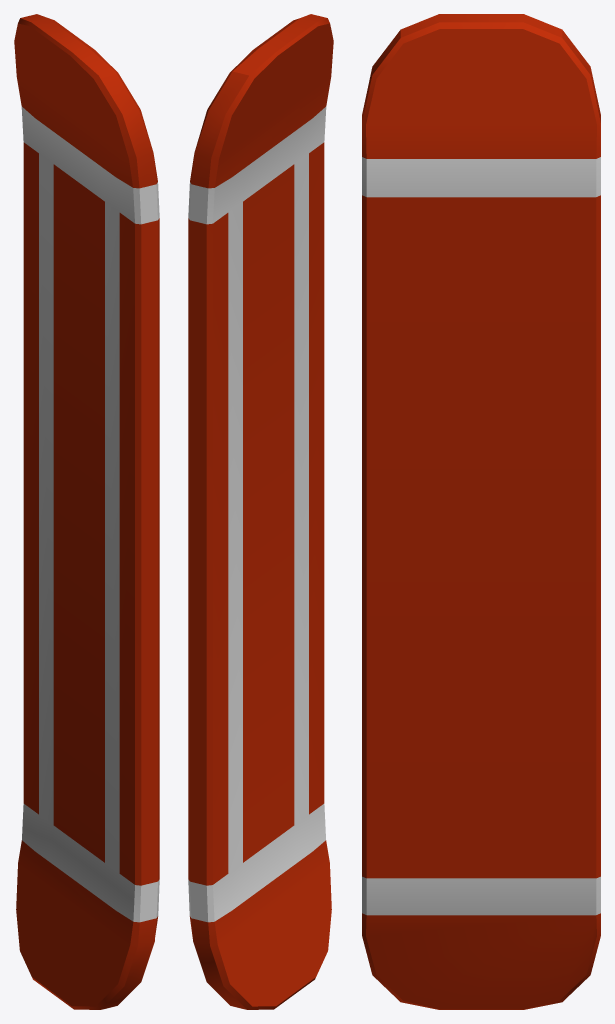
File: Board.fbx
The picture shows the model from 3 angles, left to right: view 1: azimuth 30°, elevation 25°; view 2: azimuth 150°, elevation 25°; view 3: azimuth 270°, elevation 25°; orthographic projection. The views are drawn at different scales.
Parts seen in each view (by area): view 1: snowboard; view 2: snowboard; view 3: snowboard.
Part boxes in pixels (<box>): snowboard: <box>14,14,159,1009</box>; snowboard: <box>188,14,333,1009</box>; snowboard: <box>362,14,600,1009</box>.
Bounding box in the file's own units: 27.53 × 467 × 103.
